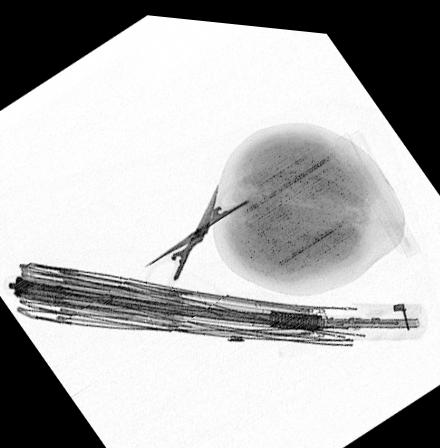Scissors: (141, 173, 254, 277)
